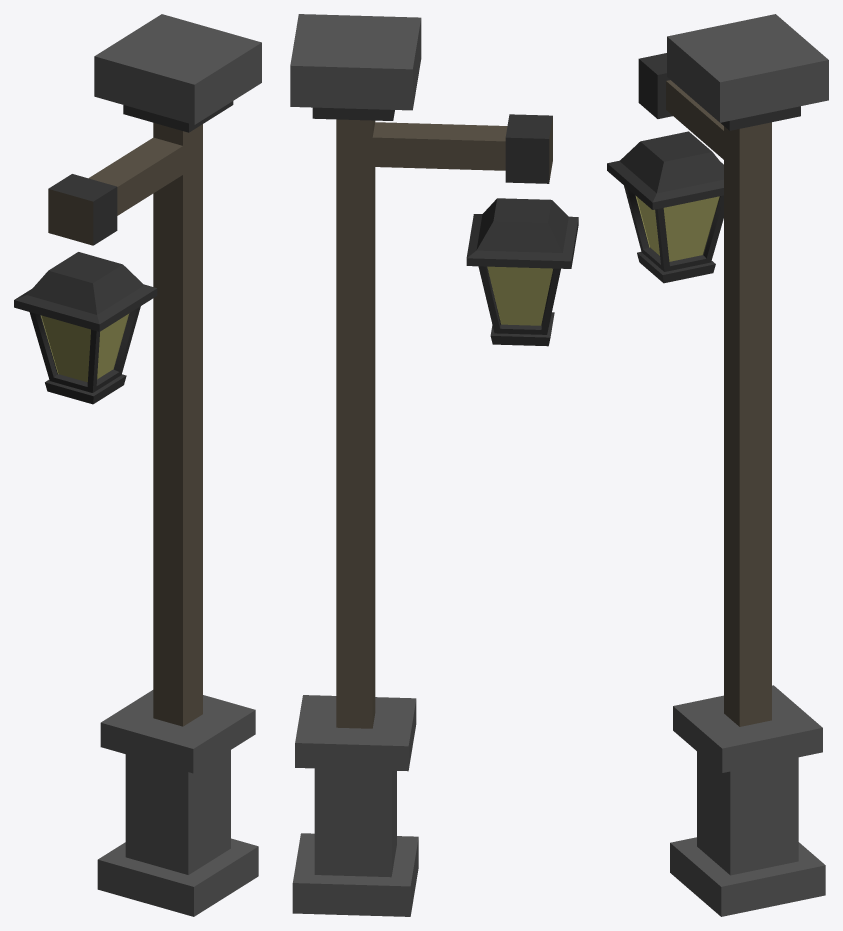
File: streetlight.fbx
3 views of the same model, side by side, from view 1: azimuth 30°, elevation 25°; view 2: azimuth 150°, elevation 25°; view 3: azimuth 270°, elevation 25° (orthographic).
Parts seen in each view (by area): view 1: streetlight; view 2: streetlight; view 3: streetlight.
Part boxes in pixels (box(x1,y1,x2,y2)): streetlight: box(14, 14, 261, 916); streetlight: box(290, 14, 578, 916); streetlight: box(607, 14, 828, 916).
Bounding box in the file's own units: 89.75 × 277 × 66.64.
